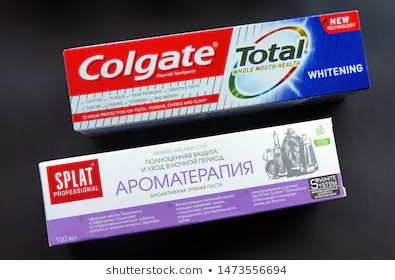colgate-total-150gm: (63, 2, 367, 134)
